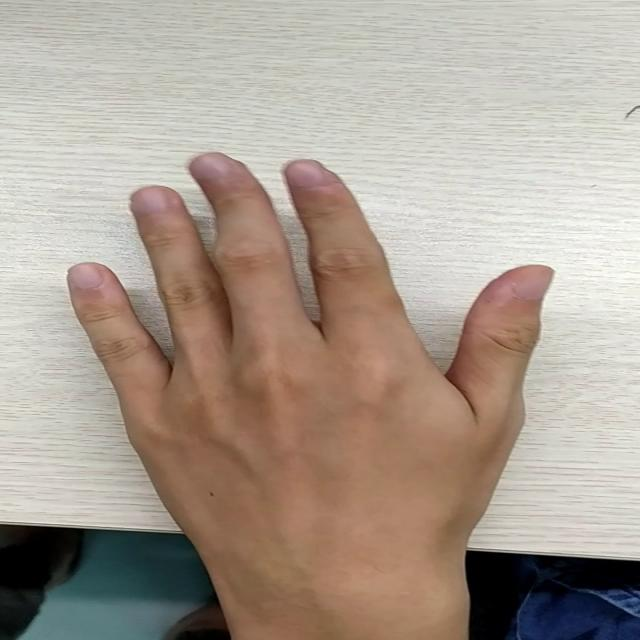hand: (56, 139, 577, 547)
